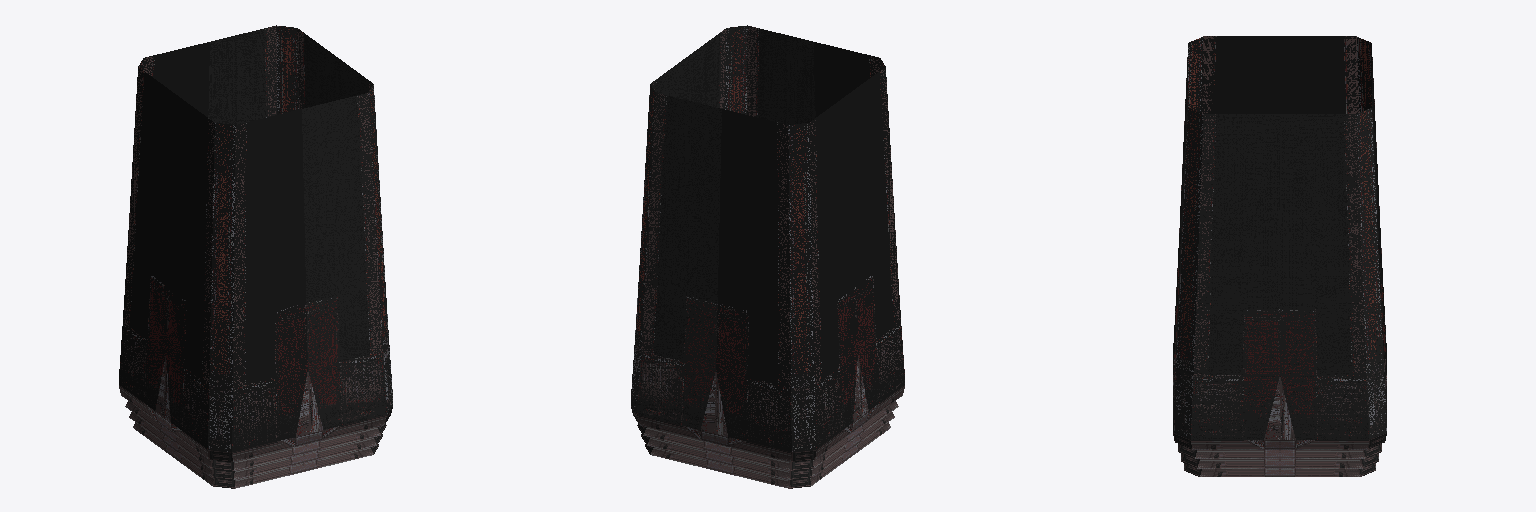
The picture shows the model from 3 angles: view 1: azimuth 30°, elevation 25°; view 2: azimuth 150°, elevation 25°; view 3: azimuth 270°, elevation 25°; orthographic projection.
Bounding box in the file's own units: 20.52 × 38.16 × 20.52.
Materials: 1 (1 with a texture image).